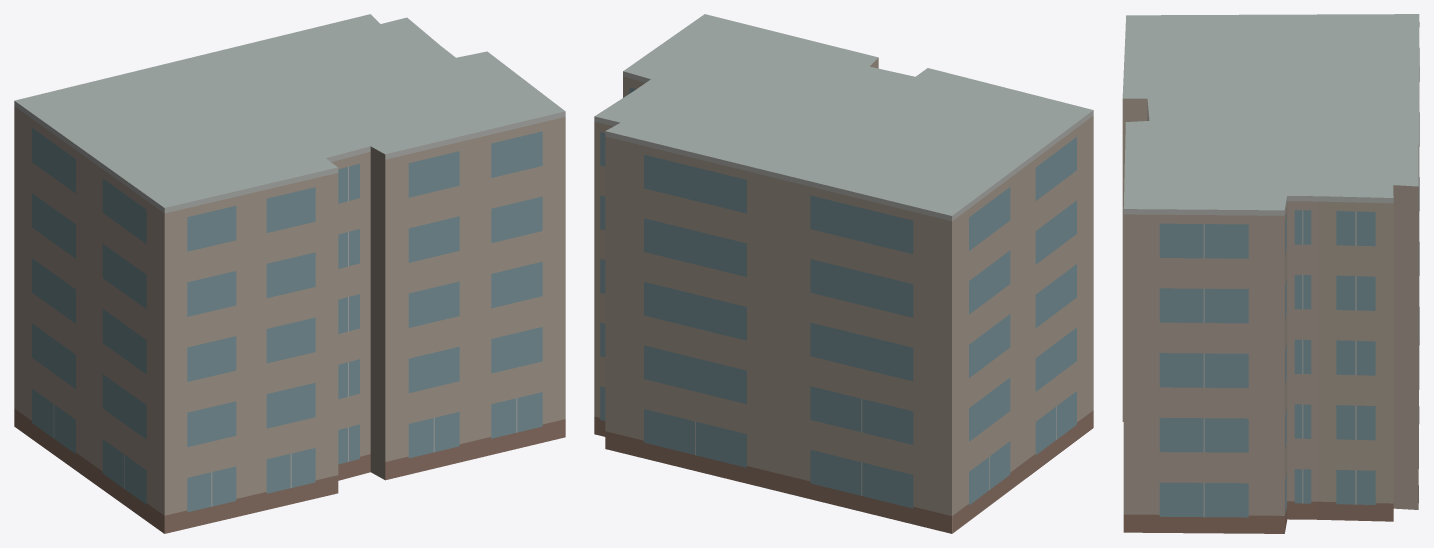
File: survey-upis-32823780.glb
The picture shows the model from 3 angles, left to right: view 1: azimuth 30°, elevation 25°; view 2: azimuth 150°, elevation 25°; view 3: azimuth 270°, elevation 25°; orthographic projection. The views are drawn at different scales.
Parts seen in each view (by area): view 1: survey-upis-32823780.tmp; view 2: survey-upis-32823780.tmp; view 3: survey-upis-32823780.tmp.
Boxes of the visible parts, <box> form: survey-upis-32823780.tmp: <box>14,14,565,533</box>; survey-upis-32823780.tmp: <box>594,14,1093,533</box>; survey-upis-32823780.tmp: <box>1122,14,1419,533</box>.
Size of the model in its own units: 19.14 by 14.7 by 12.23.
